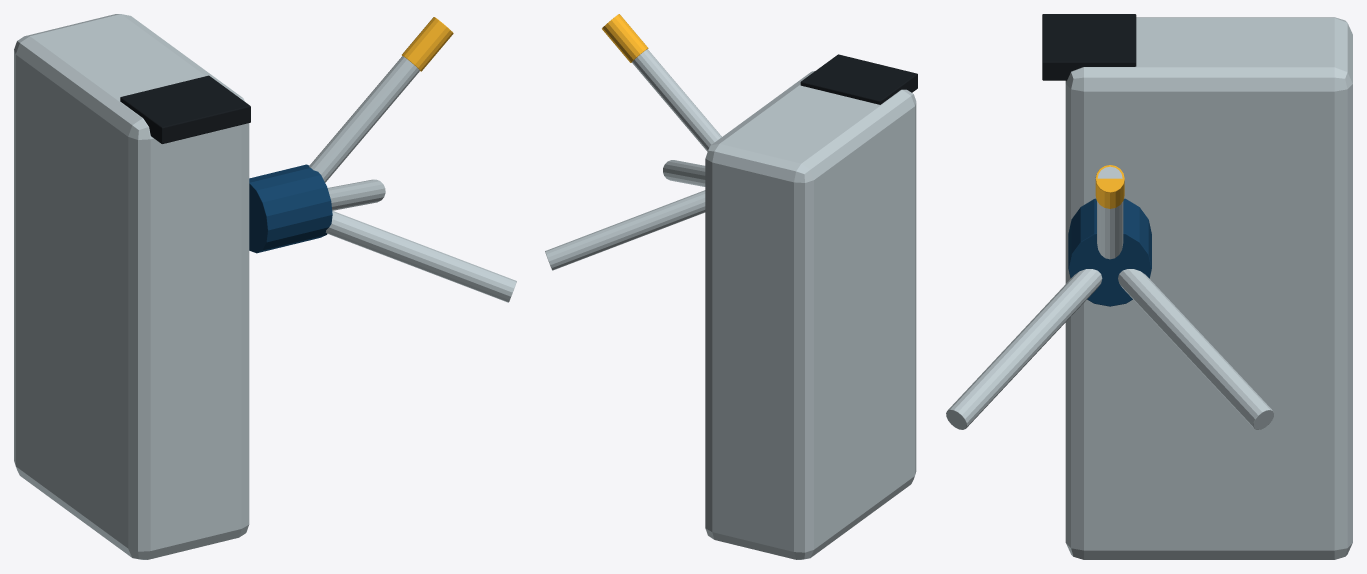
The model's file is edited.glb.
The picture shows the model from 3 angles, left to right: view 1: azimuth 30°, elevation 25°; view 2: azimuth 150°, elevation 25°; view 3: azimuth 270°, elevation 25°; orthographic projection. The views are drawn at different scales.
Visible parts, largest first — view 1: CABINET, TRIPOD_Hub, READER, TRIPOD_Arm.002, TRIPOD_Arm, TRIPOD_GripMarker, TRIPOD_Arm.001; view 2: CABINET, TRIPOD_Arm.001, READER, TRIPOD_Arm, TRIPOD_GripMarker, TRIPOD_Arm.002; view 3: CABINET, TRIPOD_Arm.001, TRIPOD_Arm.002, READER, TRIPOD_Hub, TRIPOD_Arm, TRIPOD_GripMarker.
Part boxes in pixels (x1,y1,x2,y2): CABINET: (14,14,249,559); TRIPOD_Hub: (249,164,332,253); READER: (120,75,250,143); TRIPOD_Arm.002: (325,211,516,302); TRIPOD_Arm: (309,56,419,182); TRIPOD_GripMarker: (402,17,453,71); TRIPOD_Arm.001: (327,179,385,210); CABINET: (705,71,916,559); TRIPOD_Arm.001: (545,190,705,270); READER: (800,54,917,104); TRIPOD_Arm: (632,49,721,151); TRIPOD_GripMarker: (602,14,648,62); TRIPOD_Arm.002: (663,160,705,186); CABINET: (1065,17,1352,559); TRIPOD_Arm.001: (1118,269,1274,429); TRIPOD_Arm.002: (946,269,1102,429); READER: (1042,14,1136,80); TRIPOD_Hub: (1068,198,1151,306); TRIPOD_Arm: (1097,166,1123,259); TRIPOD_GripMarker: (1095,165,1124,208).
Bounding box in the file's own units: 0.8255 × 1.08 × 0.7792.
